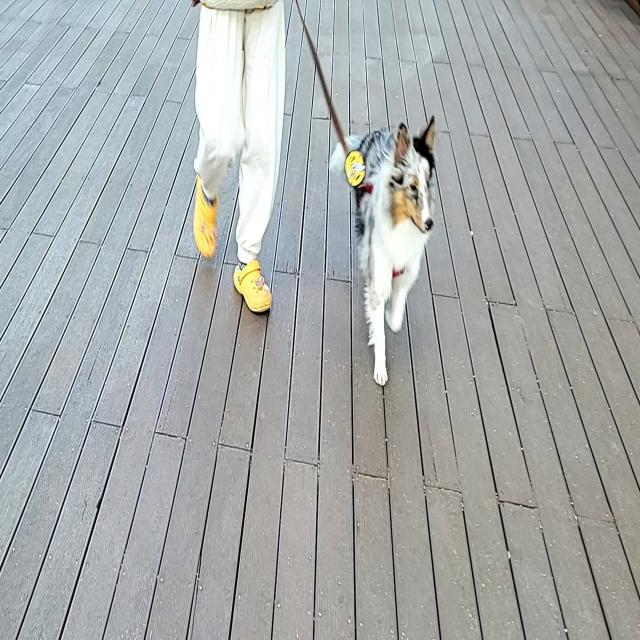Leashed_Dog: (245, 0, 438, 386)
